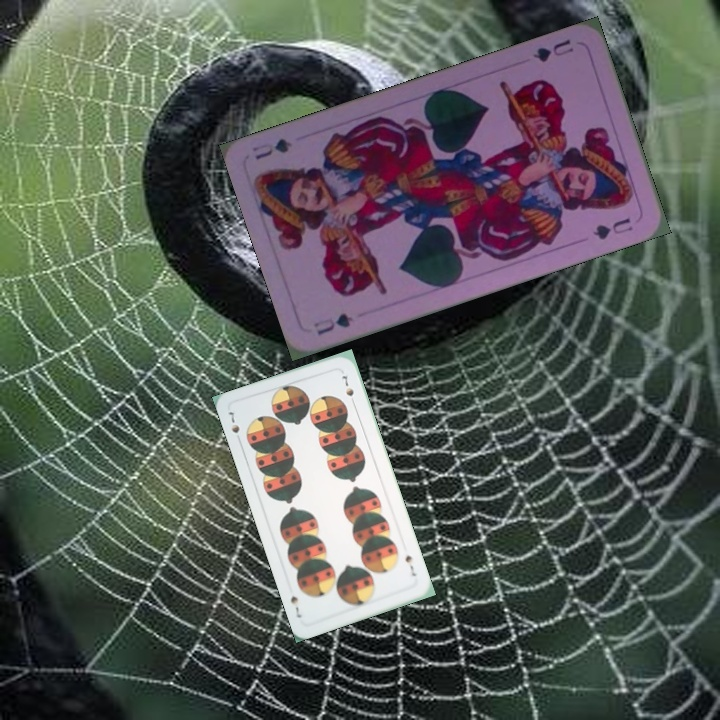GU: (529, 35, 576, 65), (309, 308, 356, 338)
S7: (224, 408, 244, 446), (401, 551, 419, 579)
